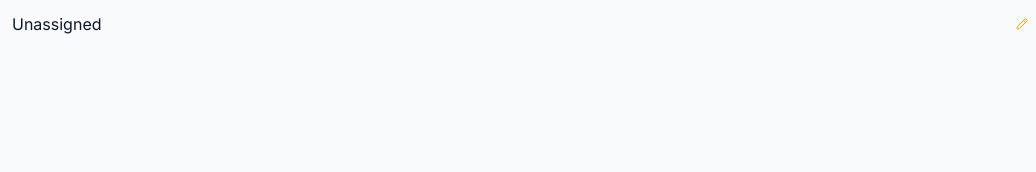
Test case: EditableField (select) — the exact production repro › successful owner change: exits edit mode and shows the new value — the page stays rendered
The image size is (1036, 172).
Later steps or results of the test are not shown.
Click the text "Unassigned" at (57, 24), box [12,14,102,34]
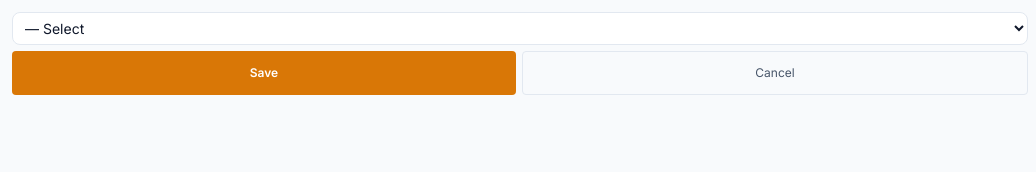
Select "Michelle Roitman Drilevich" in the dropdown at (520, 28), box [12,12,1028,45]
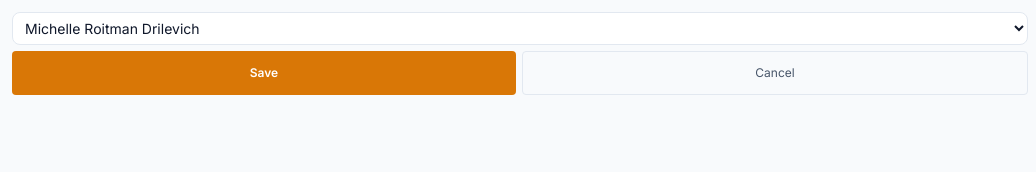
Click the button "Save" at (264, 73), box [12,51,516,95]
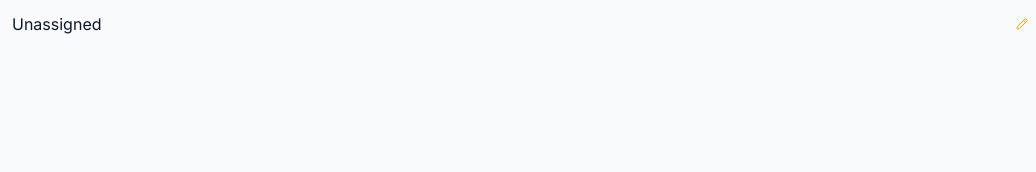
Now the button "Save" is gone
